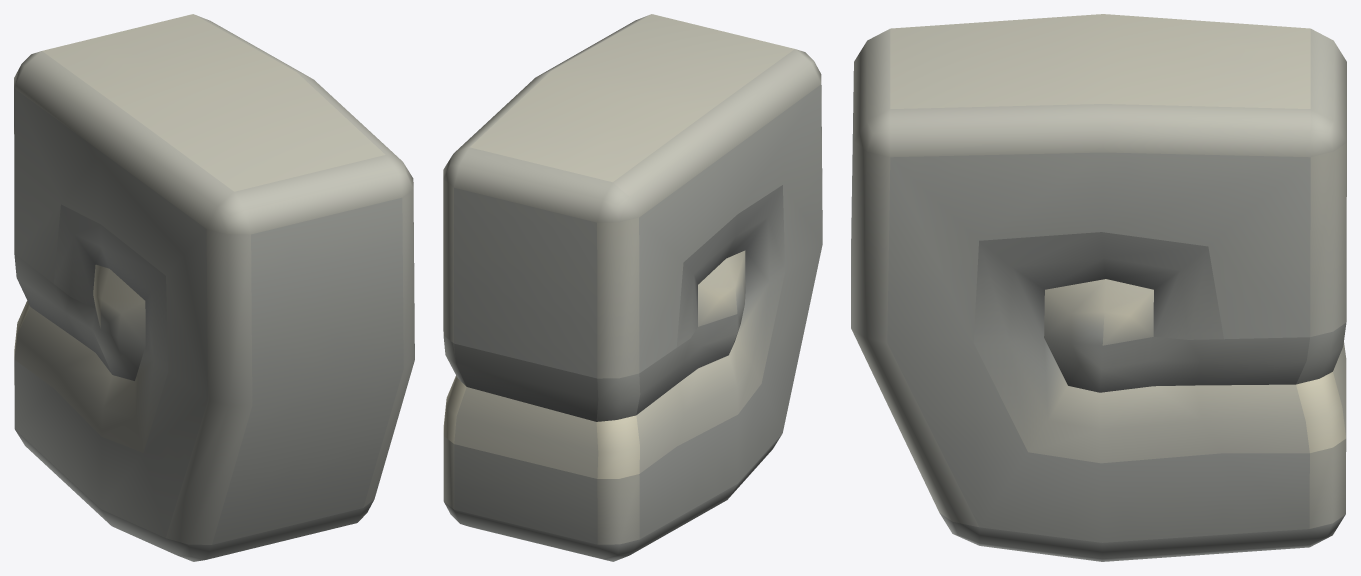
Rendered from stone_ornament3_LOD_setup.fbx.
3 renders of one model, left to right at view 1: azimuth 30°, elevation 25°; view 2: azimuth 150°, elevation 25°; view 3: azimuth 270°, elevation 25°, orthographic. The views are drawn at different scales.
Parts seen in each view (by area): view 1: stone_ornament3_LOD0; view 2: stone_ornament3_LOD0; view 3: stone_ornament3_LOD0.
Part boxes in pixels (x1,y1,x2,y2): stone_ornament3_LOD0: (14,14,414,561); stone_ornament3_LOD0: (443,14,822,561); stone_ornament3_LOD0: (851,14,1346,561).
Size of what is drawn, in the model's own units: 62.4 by 112 by 110.
